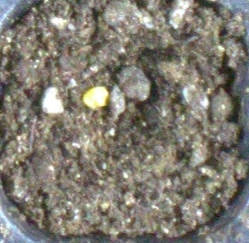pepper seed: (25, 30, 135, 141)
